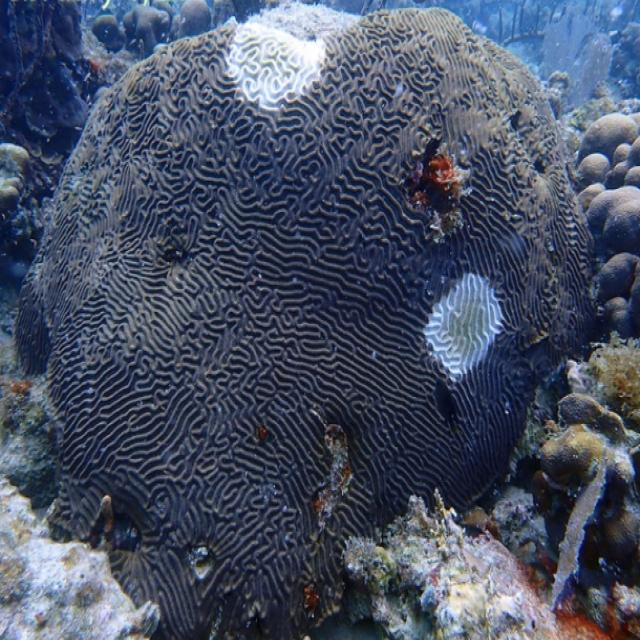Coral: (12, 0, 596, 640)
